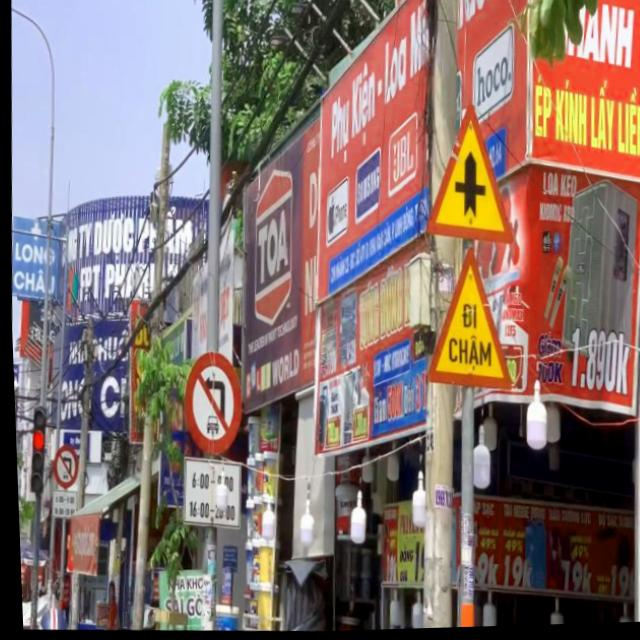Di cham: (414, 242, 519, 402)
Giao nhau voi duong khong uu tien: (416, 93, 521, 254)
